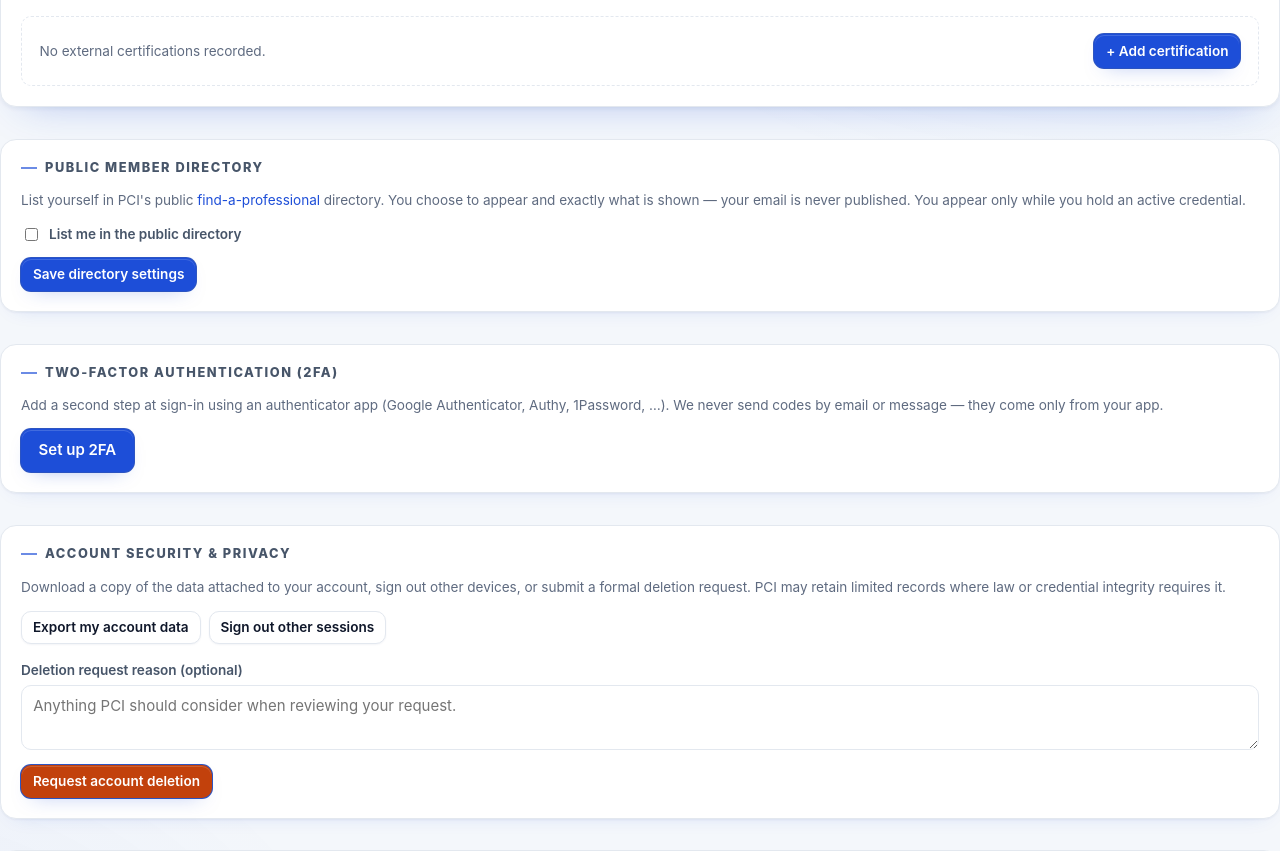
Test: Profile › two-factor enrolment › surfaces a verify error from the server body message
(page scrolled)
Step 1. Click the button "Set up 2FA" → coordinates (77, 451), box [21,429,134,472]
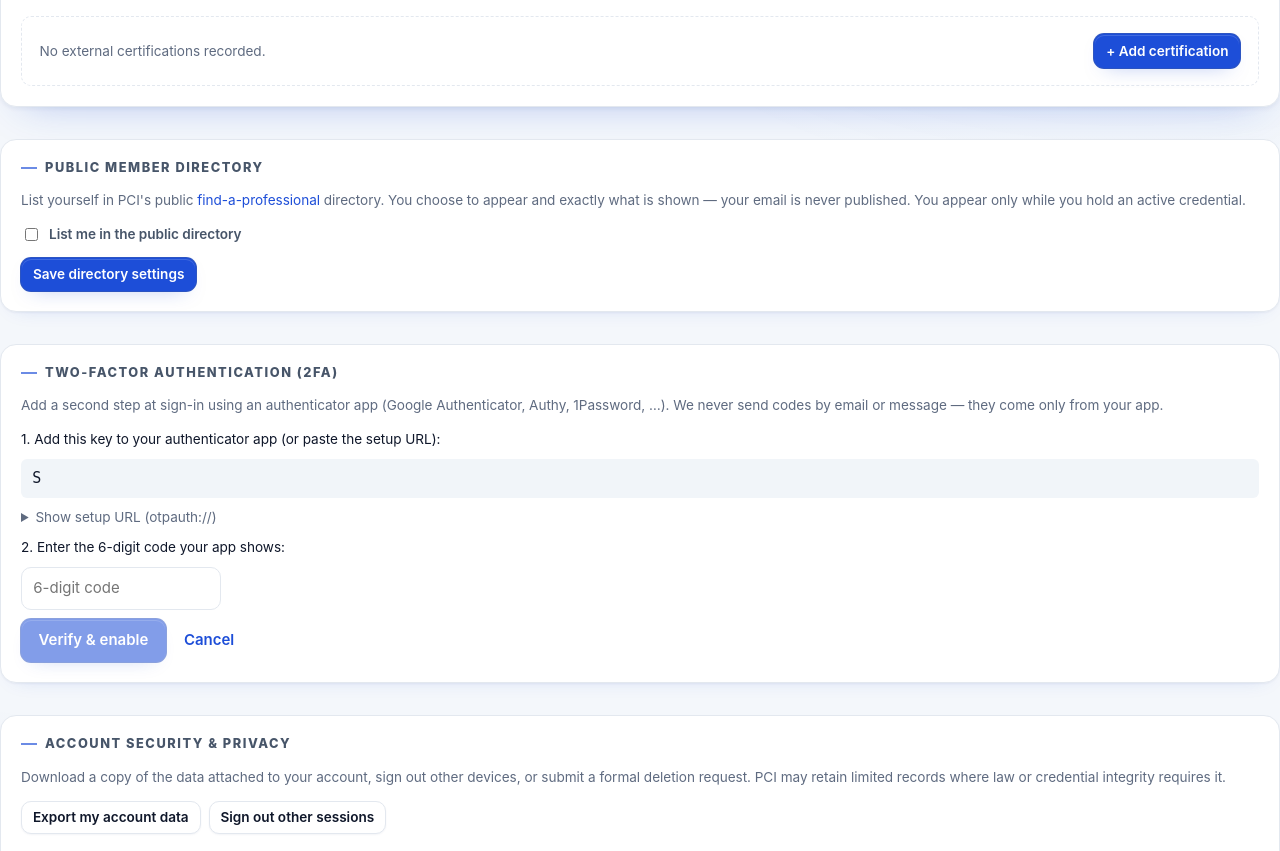
Step 2. Type "000000" into the field with placeholder "6-digit code" → coordinates (121, 589), box [21,567,221,610]
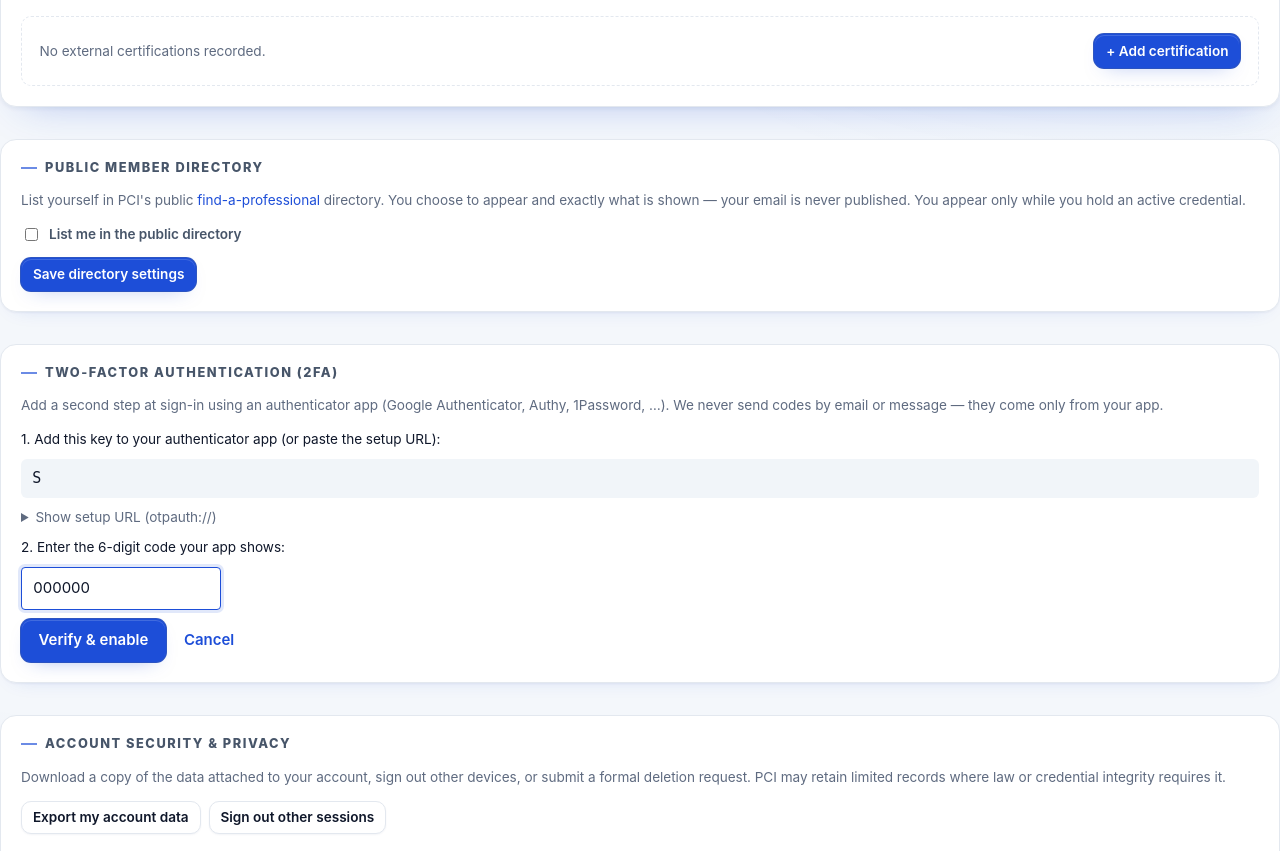
Step 3. Click the button "Verify & enable" → coordinates (93, 641), box [21,619,166,662]
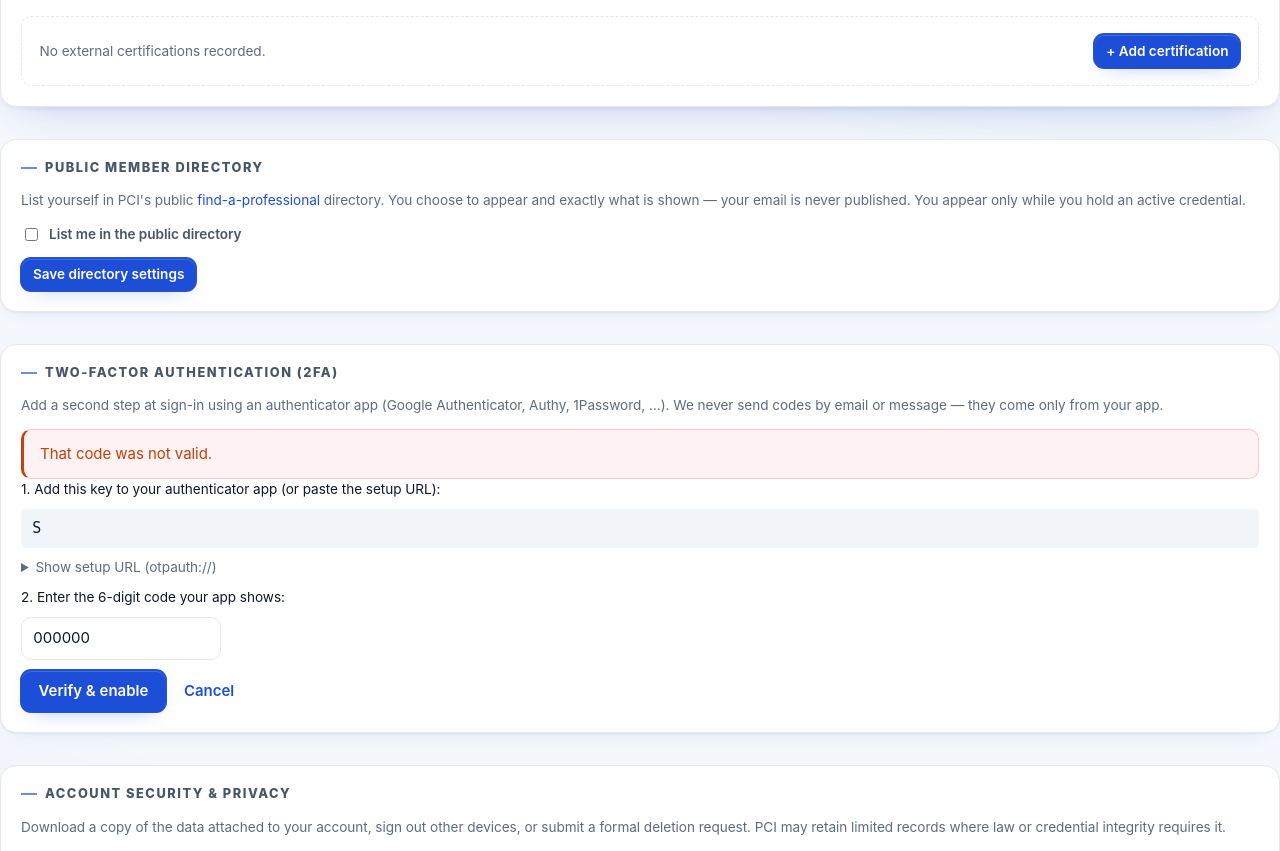
Now the text "That code was not valid." is shown, box [21,429,1259,479]
